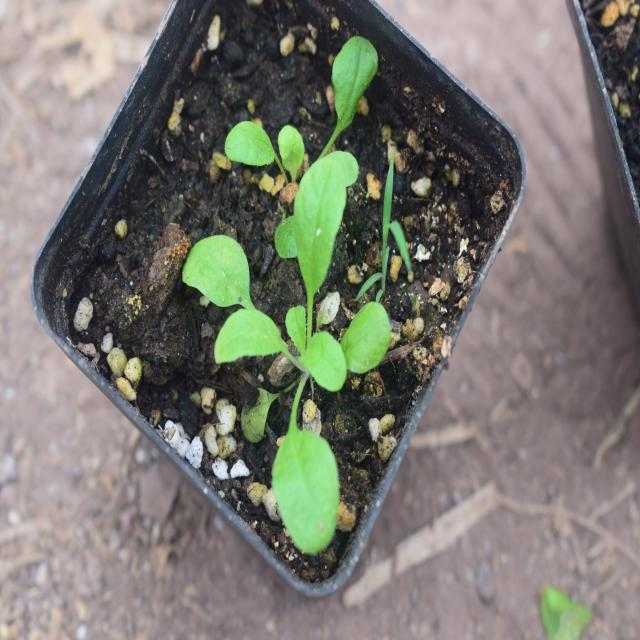Shepherd_Purse: (183, 156, 383, 550)
